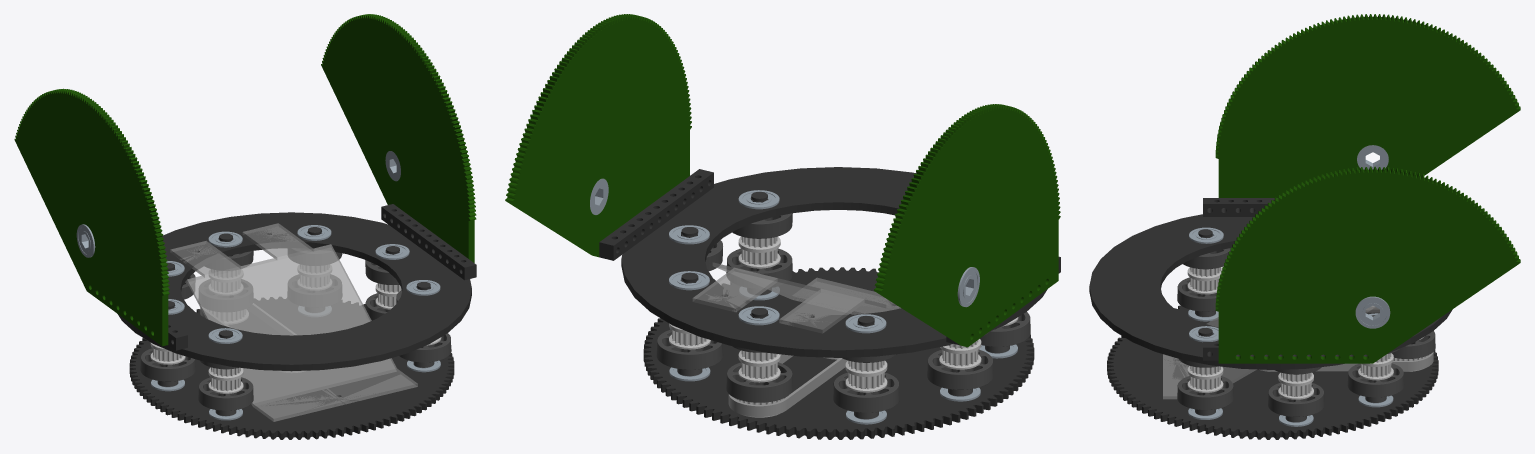
3 renders of one model, left to right at view 1: azimuth 30°, elevation 25°; view 2: azimuth 150°, elevation 25°; view 3: azimuth 270°, elevation 25°, orthographic. The views are drawn at different scales.
Visible parts, largest first — view 1: Part 1 (×5), Spur gear (220 teeth) (×2), 2" OD 1/2" Hex Bore Compliant Wheel 60A (am-3462) (×8), 18t 9mm Wide 1/2" Hex Bore Double Flange 5mm HTD Aluminum Pu (×3), .5" Hex ID 1.125" OD Flanged Bearing (217-2734); view 2: Spur gear (220 teeth) (×2), Part 1 (×5), 2" OD 1/2" Hex Bore Compliant Wheel 60A (am-3462) (×7), 18t 9mm Wide 1/2" Hex Bore Double Flange 5mm HTD Aluminum Pu (×5), .5" Hex ID 1.125" OD Flanged Bearing (217-2734); view 3: Spur gear (220 teeth) (×2), Part 1 (×5), 2" OD 1/2" Hex Bore Compliant Wheel 60A (am-3462) (×6), 18t 9mm Wide 1/2" Hex Bore Double Flange 5mm HTD Aluminum Pu (×4), .5" Hex ID 1.125" OD Flanged Bearing (217-2734) (×2).
Part boxes in pixels (<box>): Part 1 (×5): <box>118,204,476,439</box>; Spur gear (220 teeth) (×2): <box>14,14,476,346</box>; 2" OD 1/2" Hex Bore Compliant Wheel 60A (am-3462) (×8): <box>140,248,451,410</box>; 18t 9mm Wide 1/2" Hex Bore Double Flange 5mm HTD Aluminum Pu (×3): <box>208,271,331,393</box>; .5" Hex ID 1.125" OD Flanged Bearing (217-2734): <box>76,224,95,257</box>; Spur gear (220 teeth) (×2): <box>505,14,1060,347</box>; Part 1 (×5): <box>599,167,1047,439</box>; 2" OD 1/2" Hex Bore Compliant Wheel 60A (am-3462) (×7): <box>656,213,1030,412</box>; 18t 9mm Wide 1/2" Hex Bore Double Flange 5mm HTD Aluminum Pu (×5): <box>669,243,981,392</box>; .5" Hex ID 1.125" OD Flanged Bearing (217-2734): <box>957,267,979,307</box>; Spur gear (220 teeth) (×2): <box>1215,14,1520,363</box>; Part 1 (×5): <box>1089,198,1452,439</box>; 2" OD 1/2" Hex Bore Compliant Wheel 60A (am-3462) (×6): <box>1177,248,1435,416</box>; 18t 9mm Wide 1/2" Hex Bore Double Flange 5mm HTD Aluminum Pu (×4): <box>1187,273,1393,399</box>; .5" Hex ID 1.125" OD Flanged Bearing (217-2734) (×2): <box>1355,145,1390,328</box>.
Bounding box in the file's own units: 0.3334 × 0.2845 × 0.3863.
